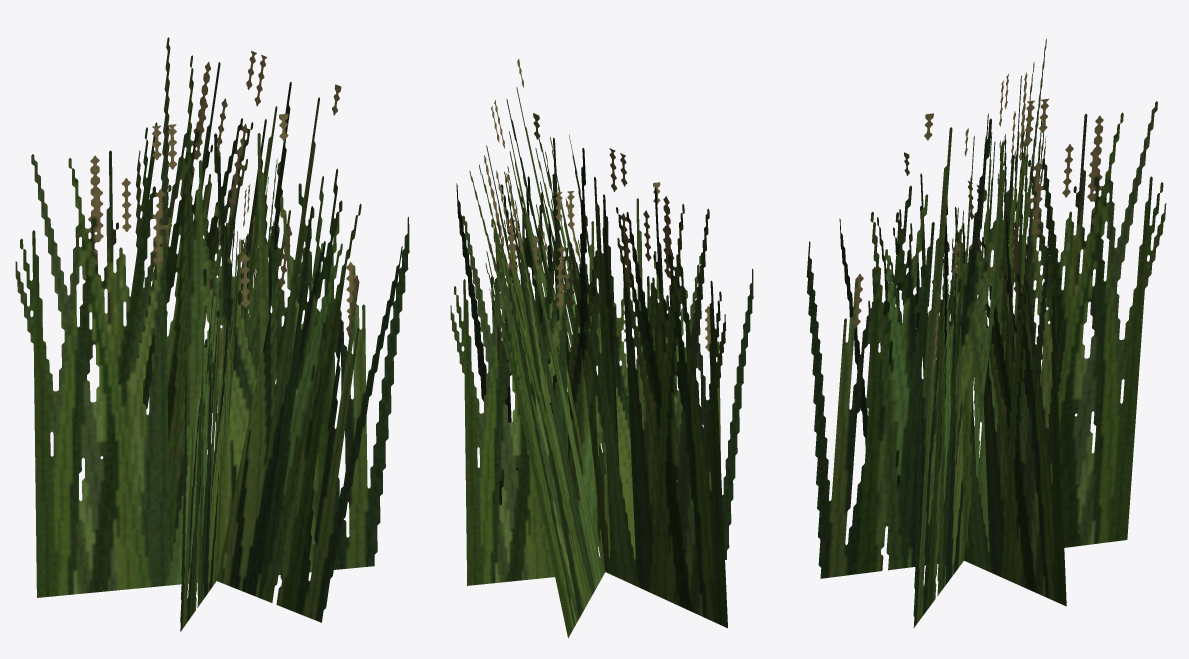
Rendered from FOLIAGE_Grass_Tall_01.fbx.
The picture shows the model from 3 angles, left to right: view 1: azimuth 30°, elevation 25°; view 2: azimuth 150°, elevation 25°; view 3: azimuth 270°, elevation 25°; orthographic projection. The views are drawn at different scales.
Parts seen in each view (by area): view 1: FOLIAGE_Grass_Tall_01; view 2: FOLIAGE_Grass_Tall_01; view 3: FOLIAGE_Grass_Tall_01.
Boxes of the visible parts, x1,y1,x2,y2 form: FOLIAGE_Grass_Tall_01: [15, 37, 409, 631]; FOLIAGE_Grass_Tall_01: [450, 59, 753, 638]; FOLIAGE_Grass_Tall_01: [806, 38, 1166, 627].
Bounding box in the file's own units: 0.757 × 1.03 × 0.7237.
Materials: 1 (1 with a texture image).
